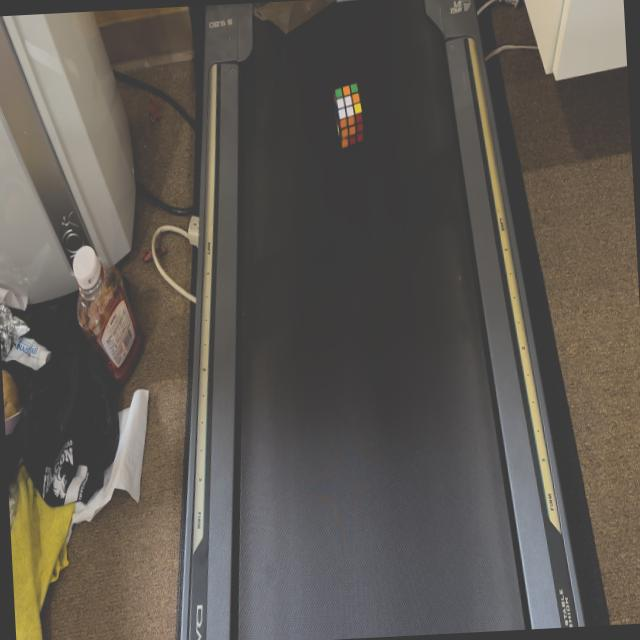Trash: (334, 80, 366, 148)
